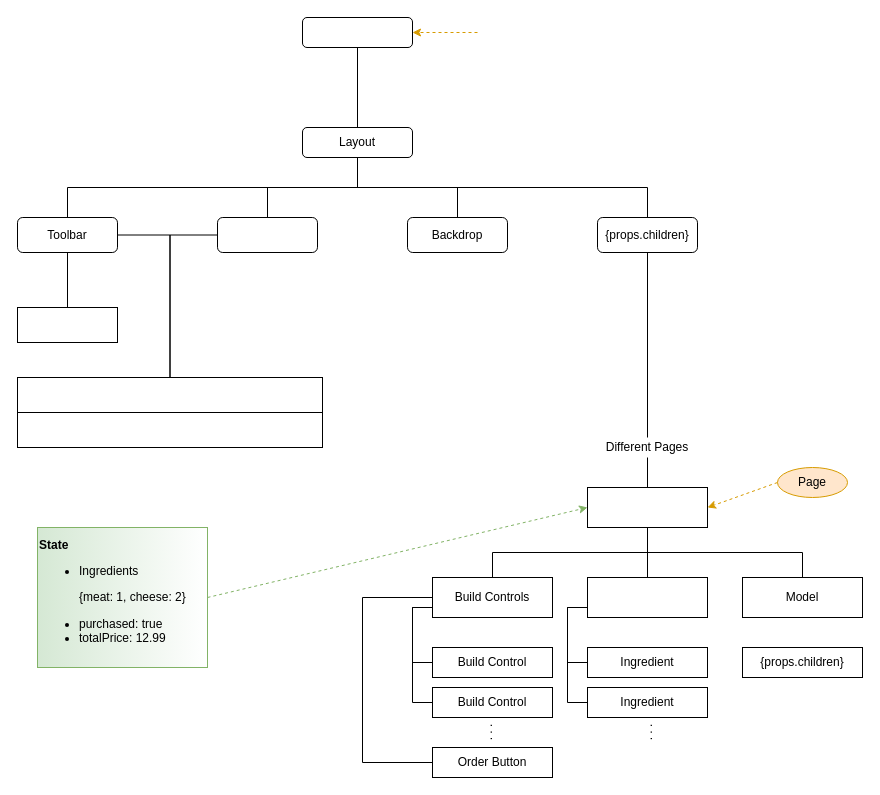
The diagram is 880 pixels wide and 795 high, and some of its shapes have lost their labels. The shapes that lost their labels are listed below. From the top down, each one's box as (x1, y1, x2, y2) in pixels, then its label:
(302, 16, 412, 48): App
(216, 216, 318, 252): Side Drawer
(16, 306, 118, 342): DrawerToggle
(16, 376, 322, 412): Logo
(16, 412, 322, 448): Navigation Item
(586, 486, 708, 528): Burger Builder
(586, 576, 708, 618): Burger
